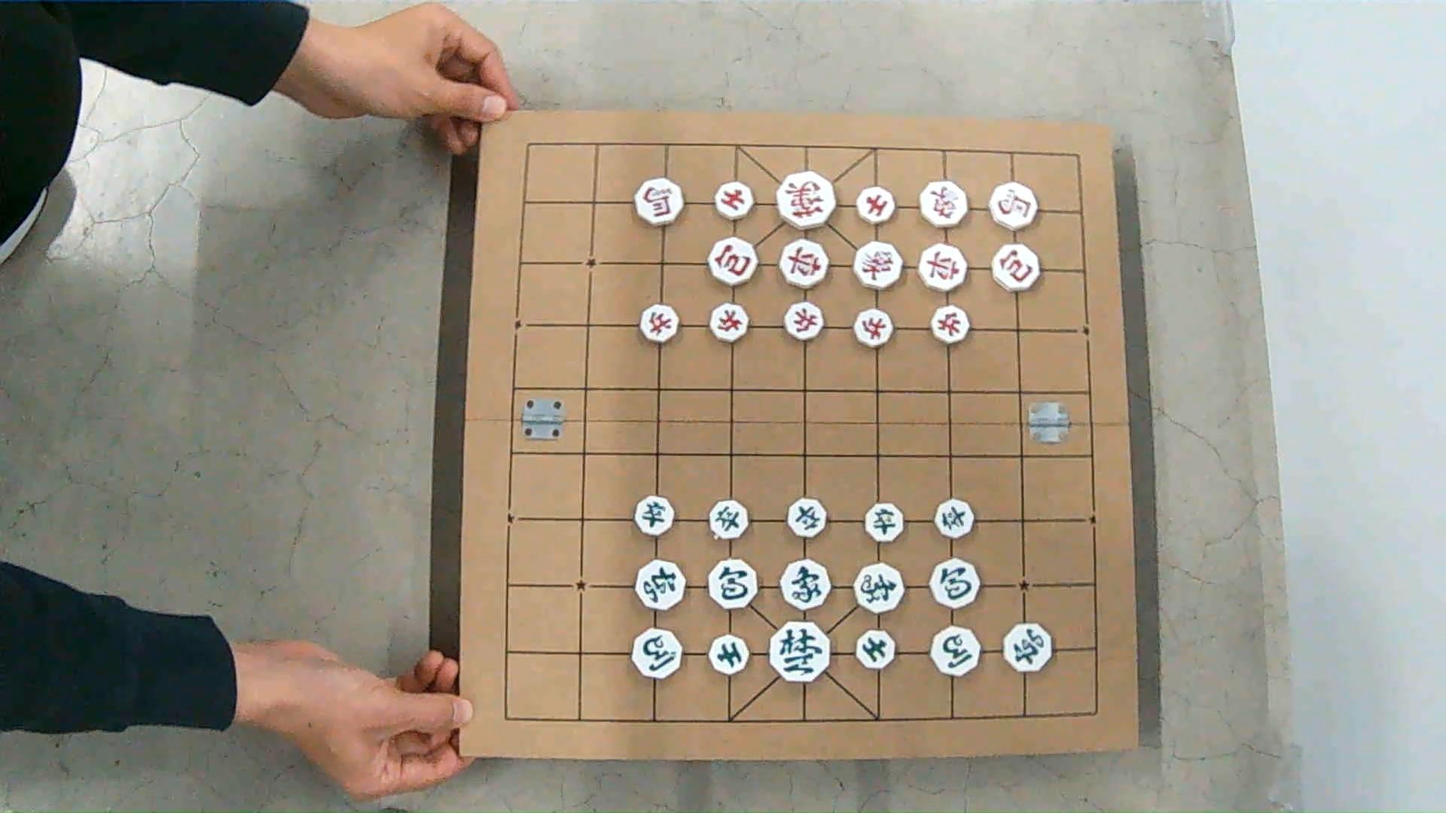cha_green: (634, 560, 684, 611), (1003, 623, 1051, 671)
cha_red: (779, 239, 827, 288), (919, 244, 967, 291)
jol_green: (935, 498, 974, 538), (864, 503, 903, 542), (635, 495, 673, 535), (710, 501, 748, 539), (787, 499, 825, 537)
jol_red: (640, 304, 678, 343), (709, 303, 747, 342), (854, 309, 892, 347), (932, 306, 970, 343), (786, 302, 822, 340)
ma_green: (631, 629, 681, 678), (932, 626, 979, 675)
ma_red: (634, 178, 682, 227), (989, 182, 1036, 230)
po_green: (930, 559, 980, 608), (708, 559, 757, 609)
po_red: (708, 238, 756, 286), (992, 244, 1039, 291)
sa_green: (709, 635, 748, 675), (856, 630, 895, 669)
sa_red: (715, 181, 754, 220), (857, 187, 895, 224)
sang_green: (781, 559, 830, 610), (855, 563, 904, 614)
sang_red: (854, 242, 901, 289), (920, 181, 967, 227)
wang_green: (770, 621, 830, 682)
wang_red: (777, 172, 834, 229)
